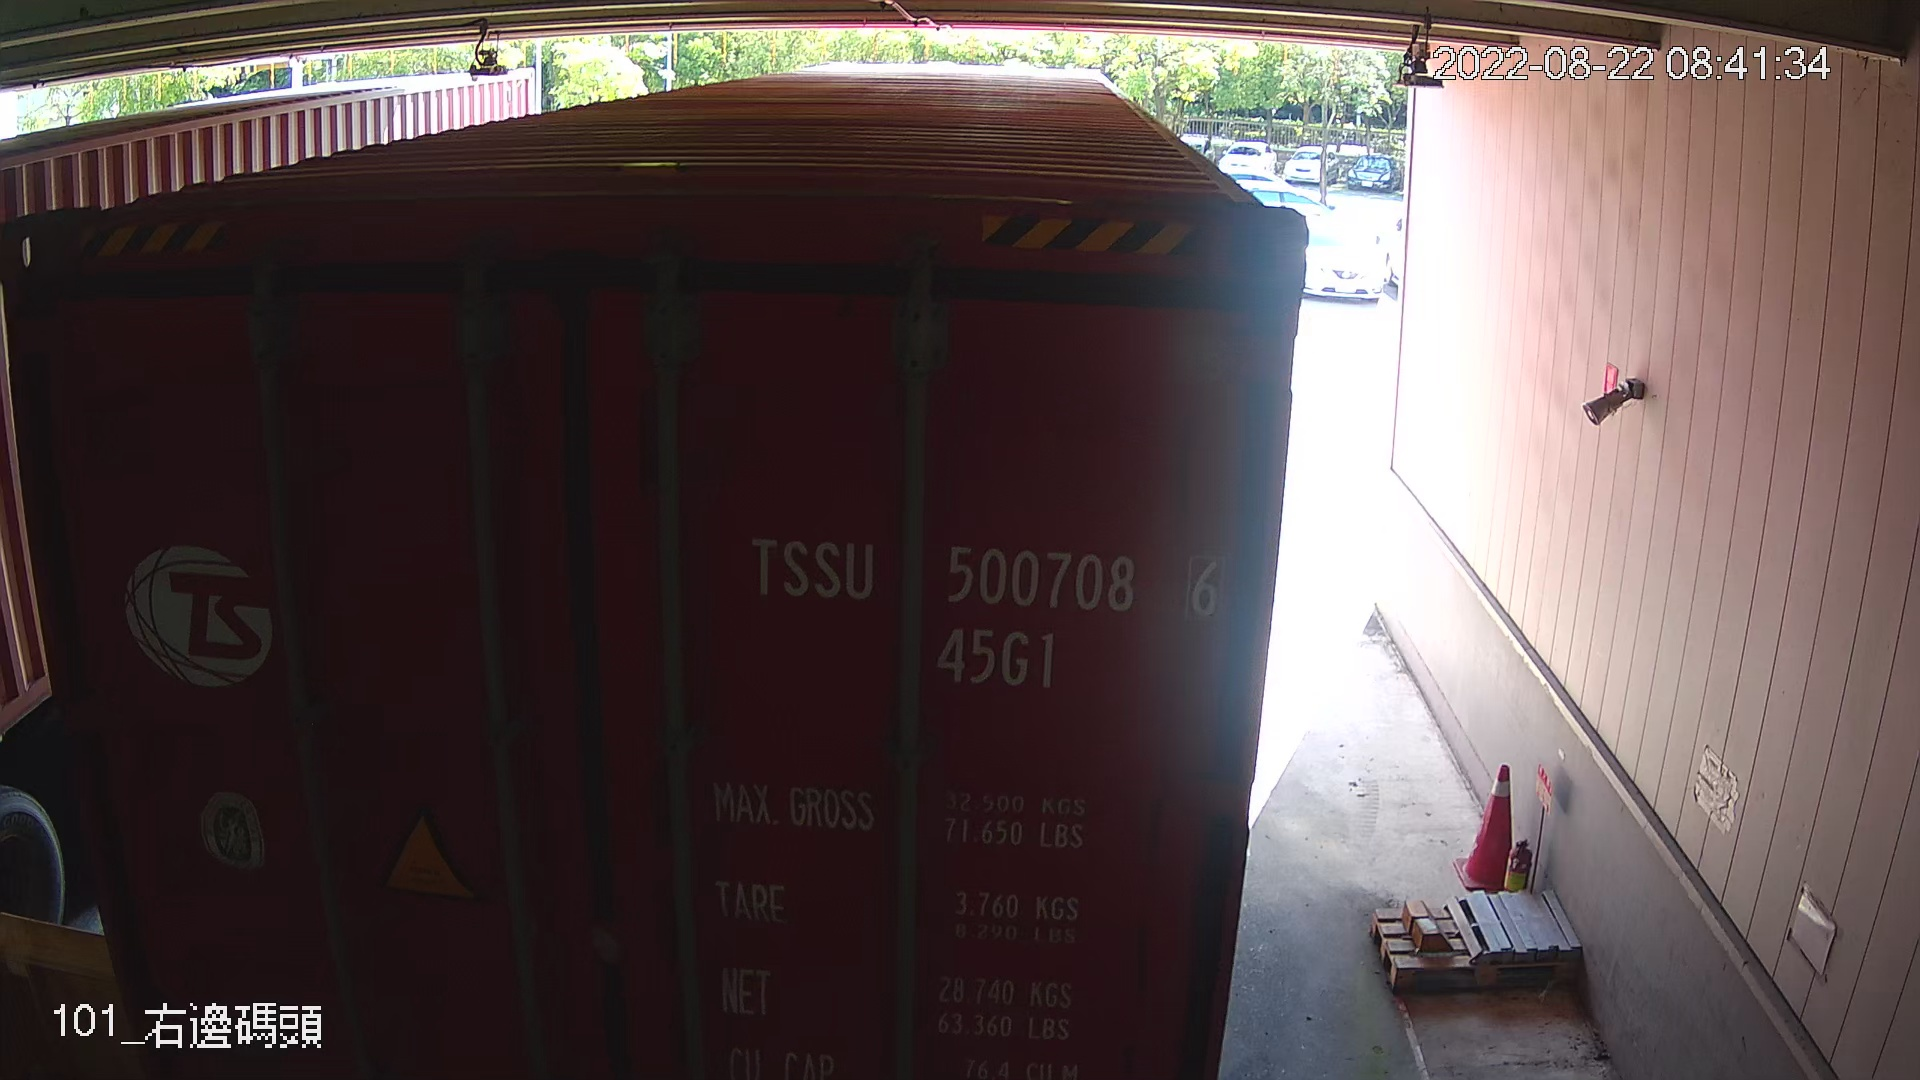container: (735, 506, 1236, 711)
